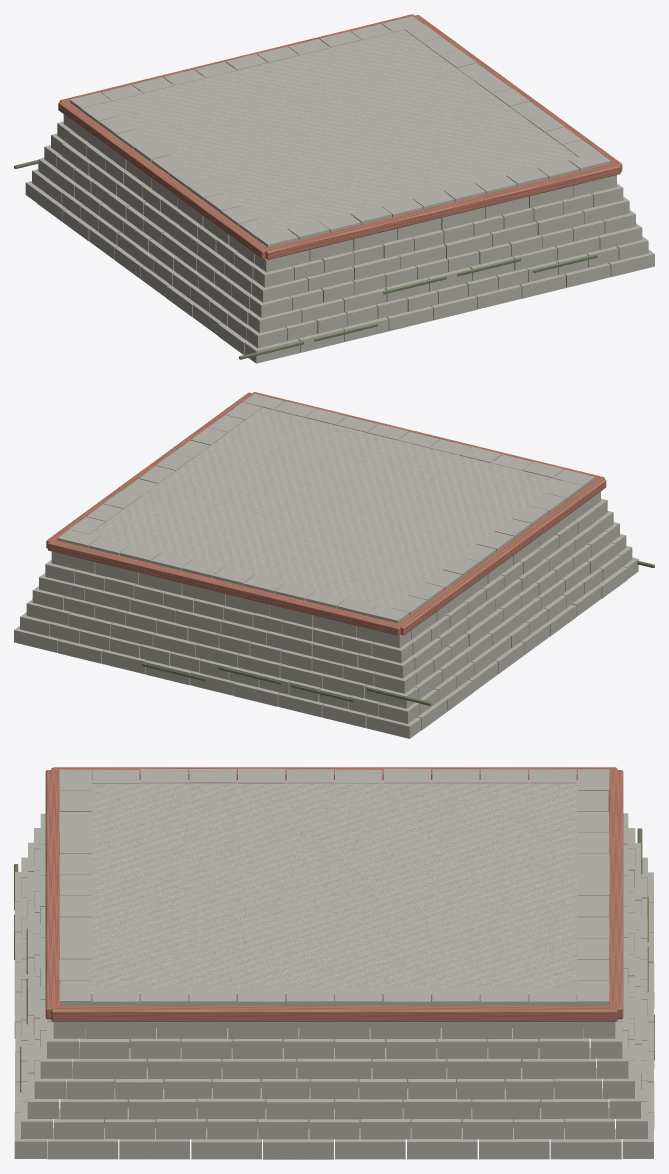
File: jungle-temple-and-stone-city-pyramid-middle-tier-7f4deccd__36102.glb
3 views of the same model, one above another, from view 1: azimuth 30°, elevation 25°; view 2: azimuth 150°, elevation 25°; view 3: azimuth 270°, elevation 25° (orthographic). The views are drawn at different scales.
Parts seen in each view (by area): view 1: pyramid-middle-tier; view 2: pyramid-middle-tier; view 3: pyramid-middle-tier.
Boxes of the visible parts, x1,y1,x2,y2 form: pyramid-middle-tier: (14, 14, 654, 363); pyramid-middle-tier: (14, 392, 654, 738); pyramid-middle-tier: (14, 767, 654, 1159).
Size of the model in its own units: 10.41 by 2.41 by 10.03.
Materials: 3 (3 with a texture image).
